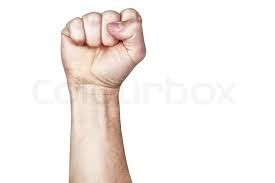fist: (60, 14, 147, 90)
